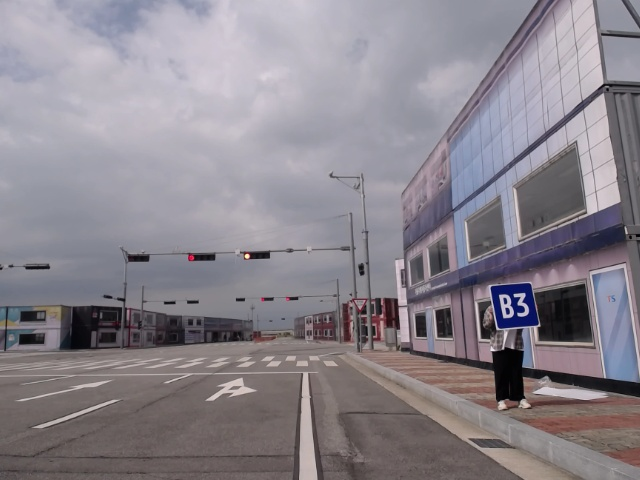delivery_b3: (488, 280, 540, 332)
red_4: (187, 251, 218, 263), (241, 249, 272, 261), (284, 295, 301, 302), (260, 296, 275, 302)
